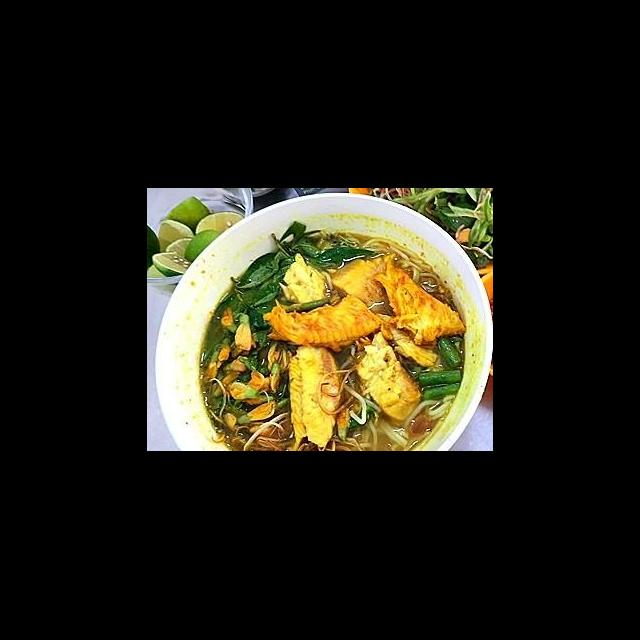bun: (365, 392, 458, 452)
bun ca: (168, 213, 474, 450)
ca: (369, 260, 469, 348), (262, 290, 384, 354), (282, 341, 343, 448), (354, 331, 422, 422), (328, 250, 404, 320), (274, 248, 333, 316)
rau ram: (208, 248, 293, 352), (266, 220, 379, 274)
